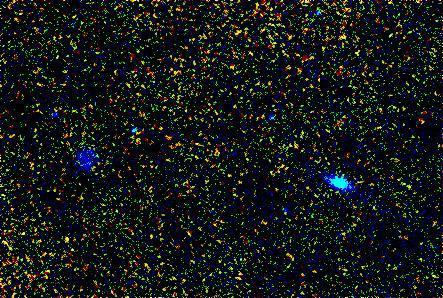star: (57, 223, 87, 253)
